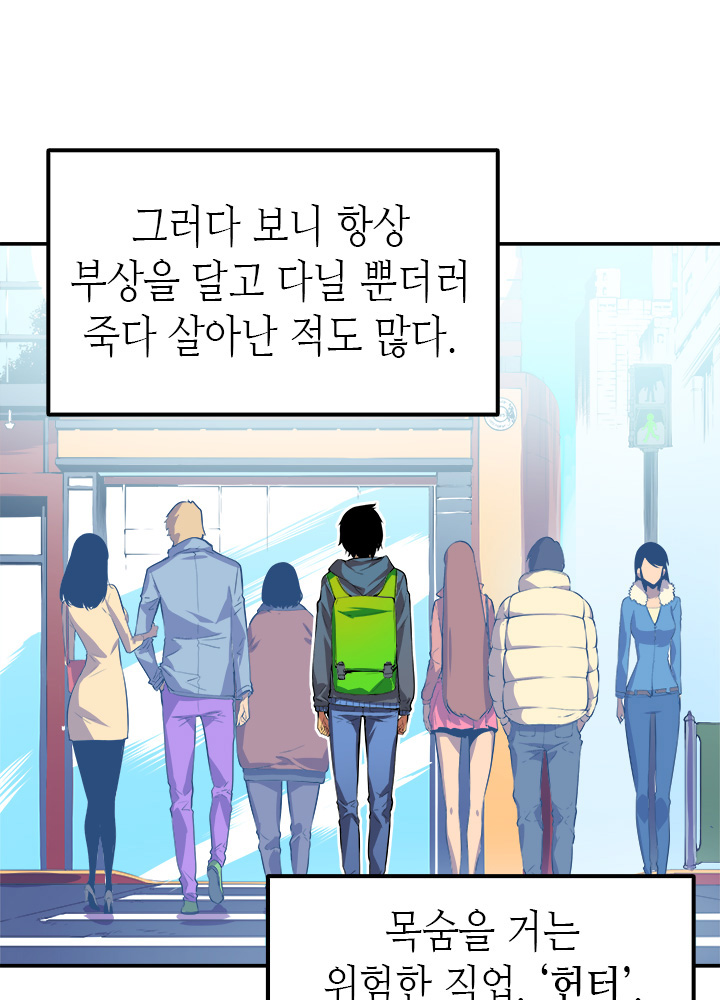dialog box: (24, 117, 529, 449), (240, 850, 709, 1000)
text: (62, 189, 476, 383), (303, 889, 658, 1000)
